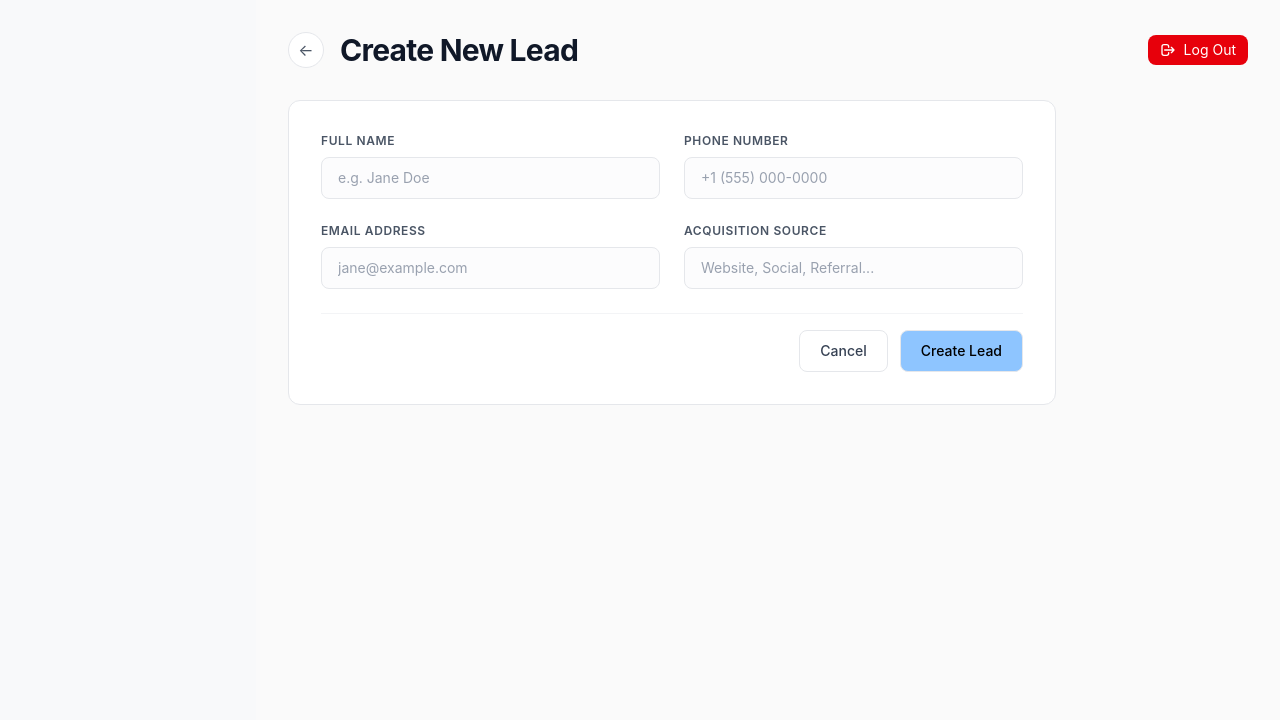
it: LeadForm › validates required fields on creation submit
The width and height of the screenshot is (1280, 720).
Click the button "Create Lead" at (961,351), box [900, 330, 1023, 372]
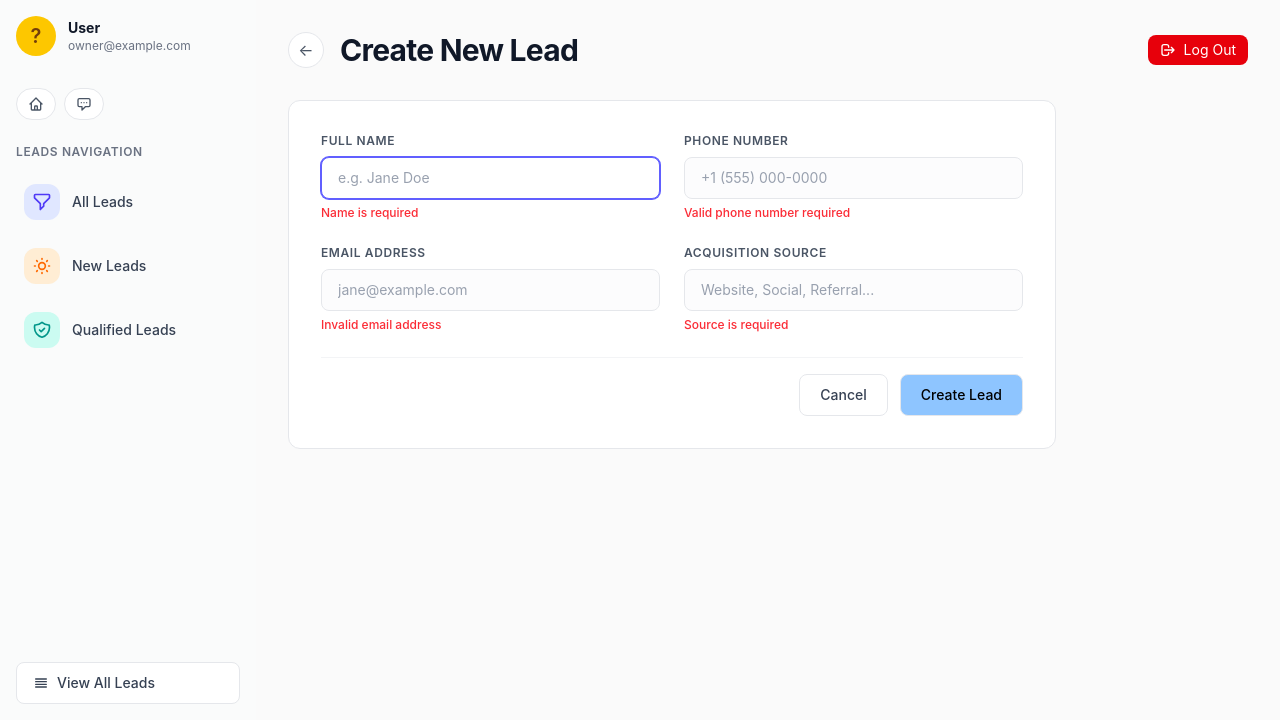
Now the text "Name is required" is shown, box [321, 205, 418, 220]
Now the text "Valid phone number required" is shown, box [684, 205, 850, 220]
Now the text "Invalid email address" is shown, box [321, 317, 441, 332]
